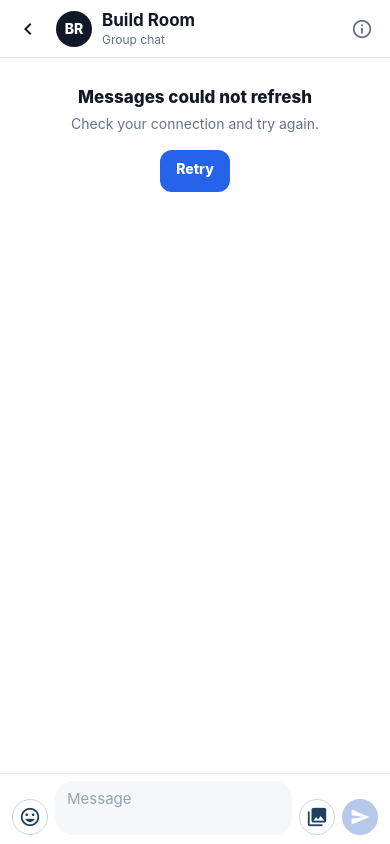
NativeChatRoomPage › clears a stale sync failure panel while retrying latest messages
Check: the text "Messages could not refresh" is shown, box [78, 86, 312, 108]
Click the button "Retry". click: click(195, 171)
box: [160, 150, 230, 192]
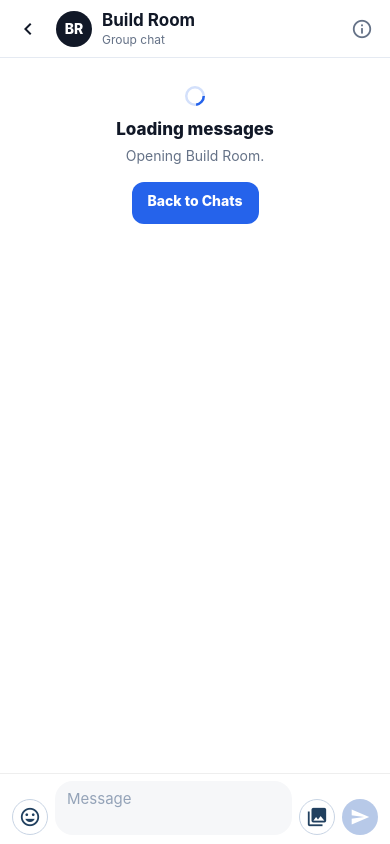
Check: the text "Loading messages" is shown, box [116, 118, 274, 140]
